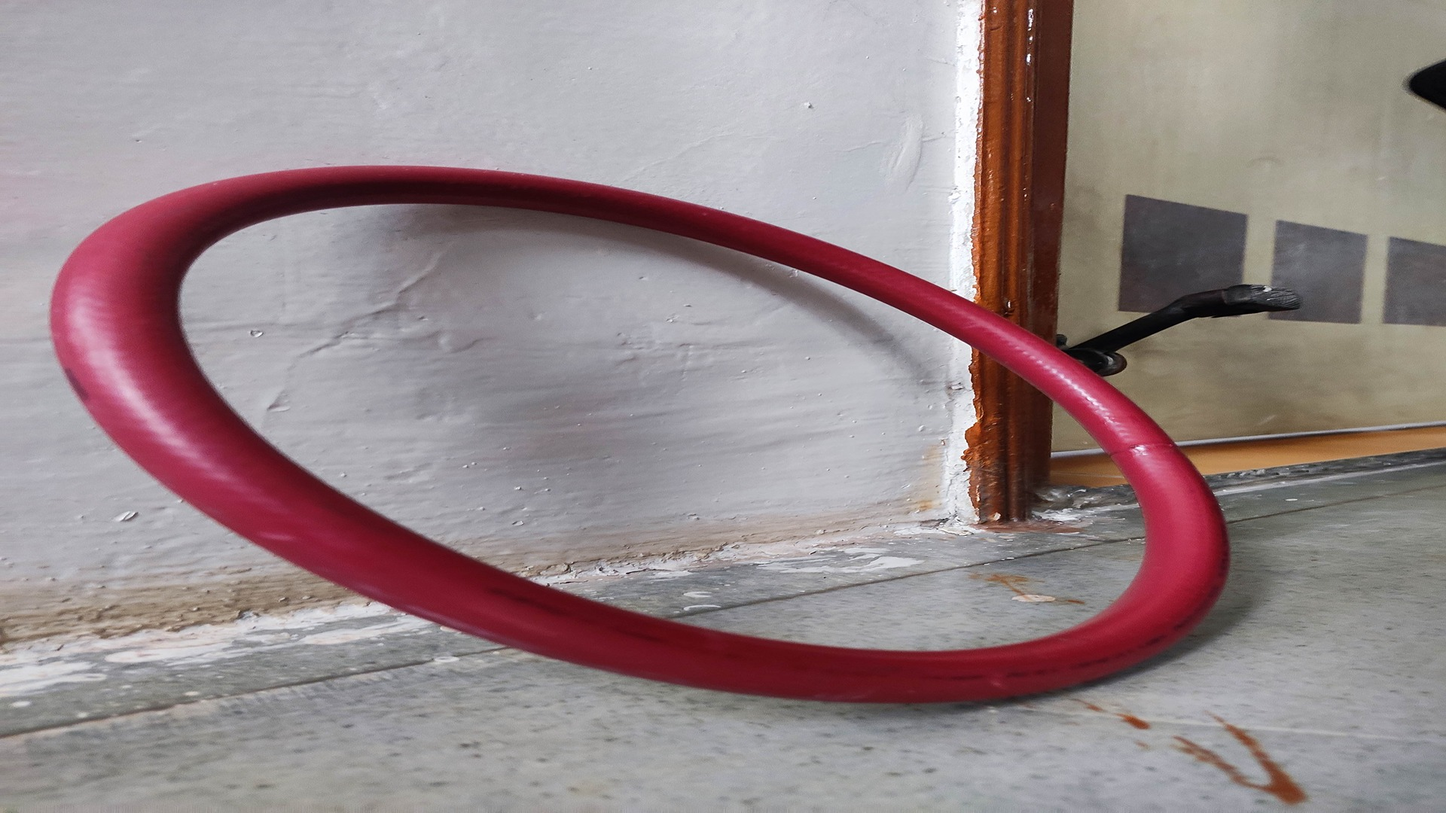Red ring: (47, 166, 1229, 699)
